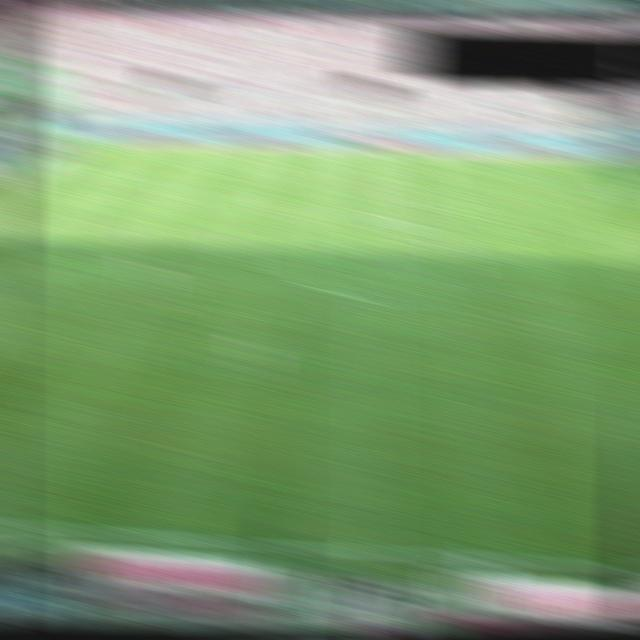bigarea_top_inner: (115, 167, 149, 186), (607, 184, 640, 201)
bigarea_top_outter: (12, 165, 46, 182)
bottom_arc_area_intersection: (16, 264, 51, 282)
corner: (54, 136, 89, 154)
halfcircle_bottom: (356, 291, 390, 309)
halfcircle_top: (356, 208, 390, 225)
midline_bottom_intersection: (354, 543, 395, 563)
midline_top_intersection: (355, 145, 390, 163)
smallarea_top_inner: (3, 197, 39, 215)
top_arc_area_intersection: (76, 205, 111, 223)
